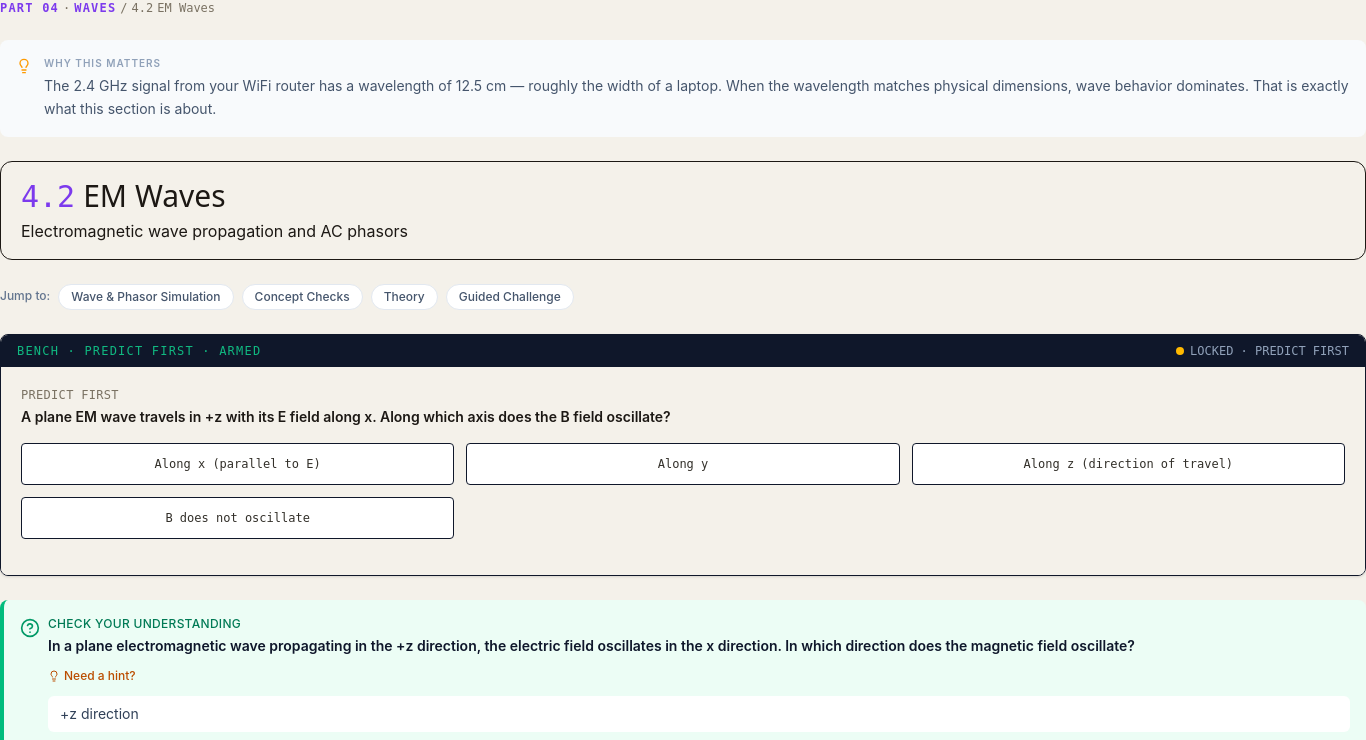
it: Section smoke tests › EMWaveSection adds an attenuation slider to the unlocked wave sim
This screenshot has width=1366, height=740.
Expected: the field labelled "Attenuation α (arb.)" is not shown
Click the button "Along y" at (683, 464), box [466,442,900,484]
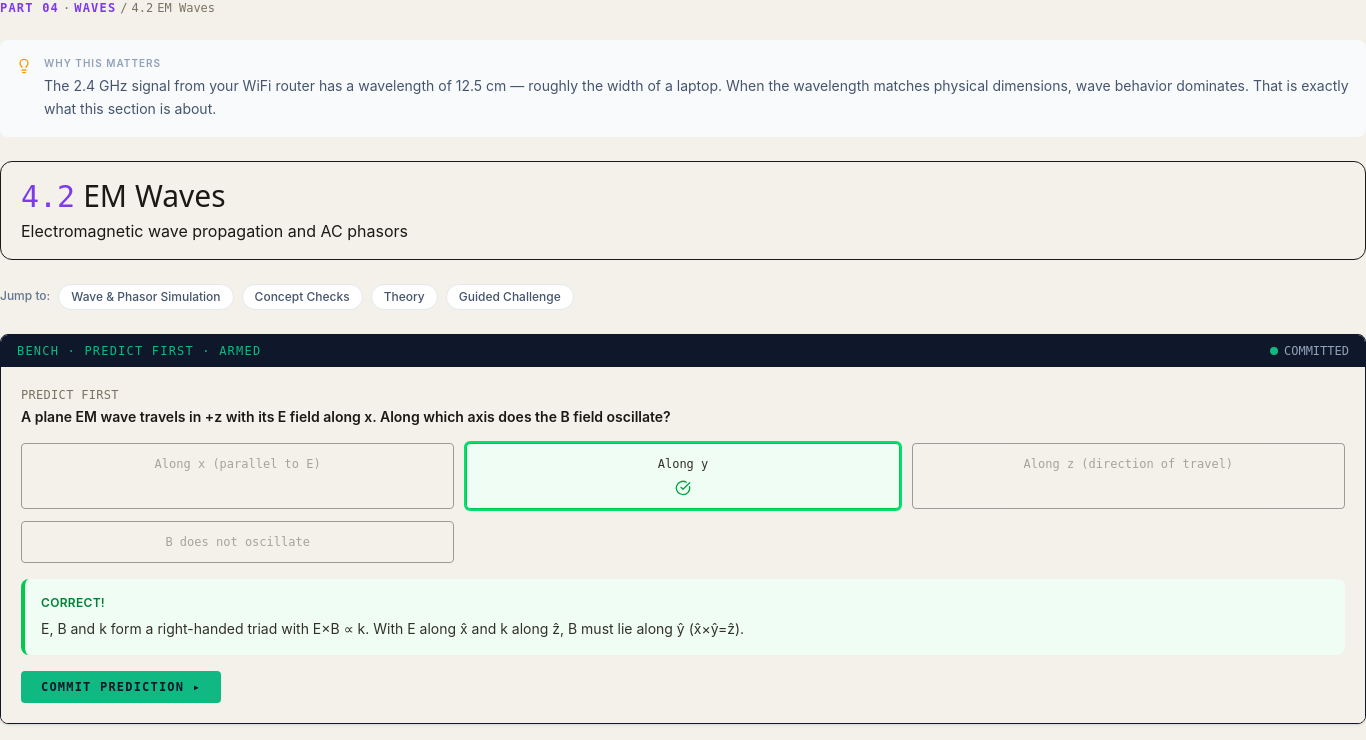
Click the button "COMMIT PREDICTION ▸" at (121, 686), box [21,670,221,702]
(page scrolled)
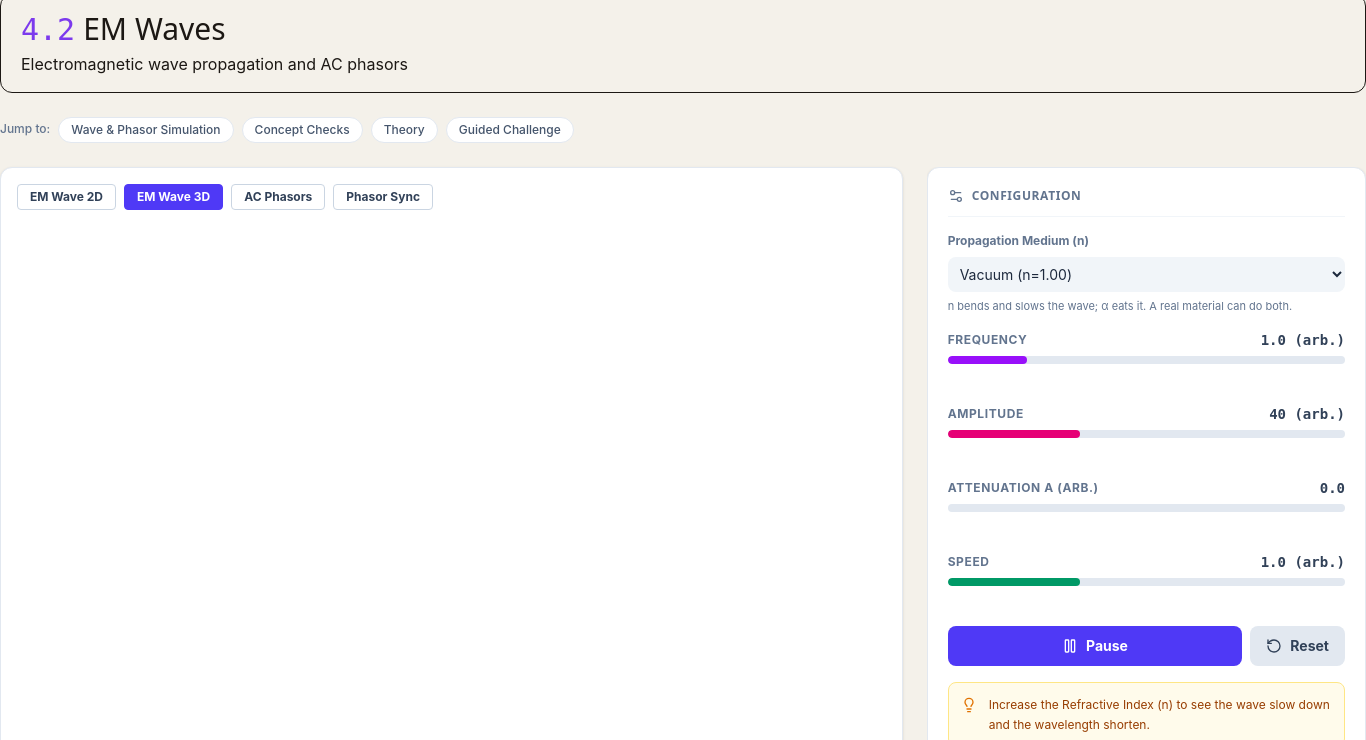
Result: the element labelled "Attenuation α (arb.)" is shown at [948,480,1345,512]
